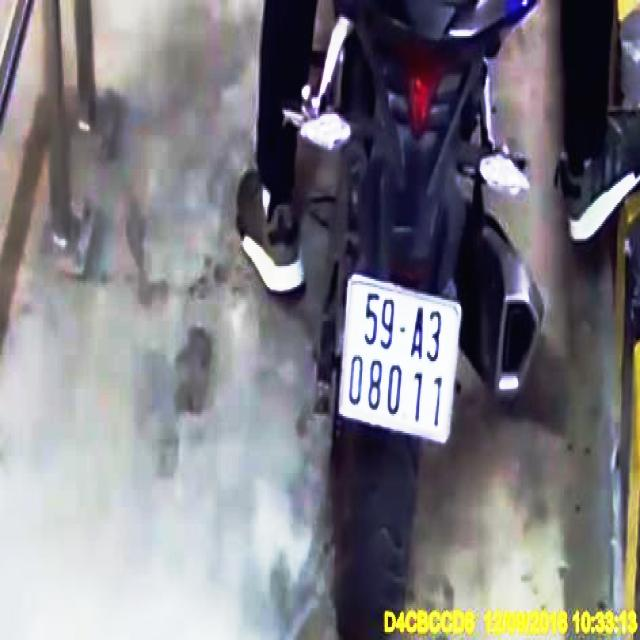license_plate: (339, 279, 463, 440)
